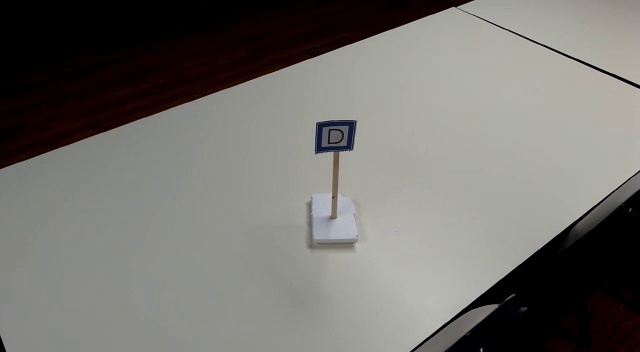durak: (314, 119, 356, 154)
